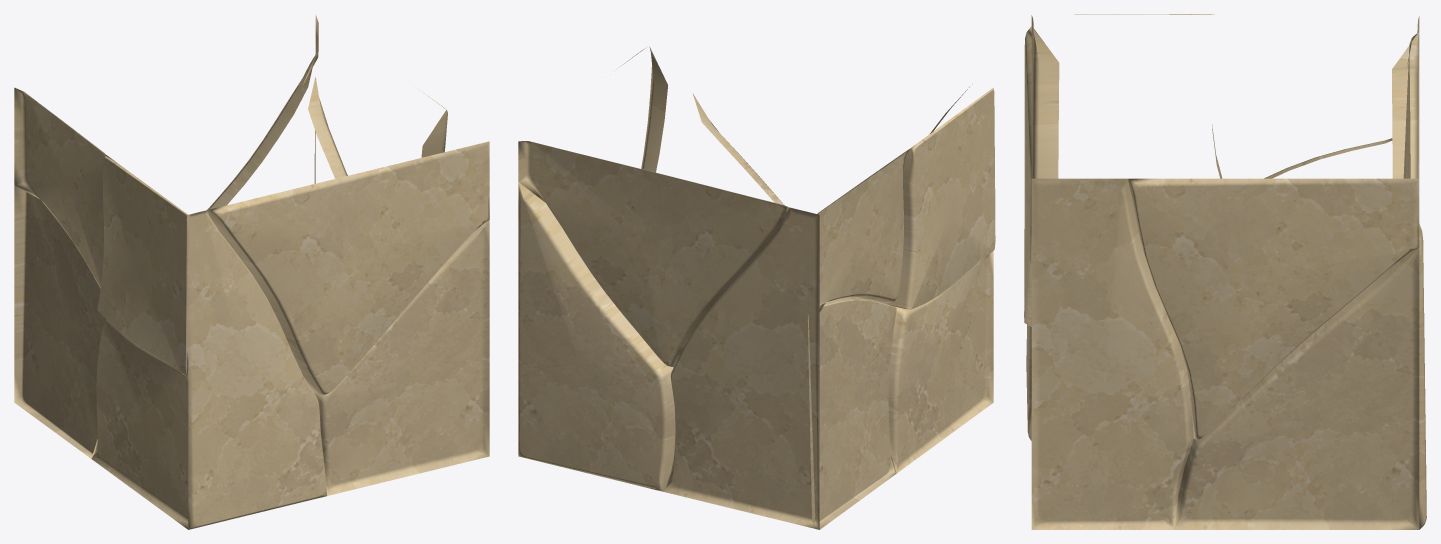
File: GroundRock05.glb
The picture shows the model from 3 angles, left to right: view 1: azimuth 30°, elevation 25°; view 2: azimuth 150°, elevation 25°; view 3: azimuth 270°, elevation 25°; orthographic projection. The views are drawn at different scales.
Visible parts, largest first — view 1: ground_rock_05; view 2: ground_rock_05; view 3: ground_rock_05.
Part boxes in pixels (box(x1,y1,x2,y2)): ground_rock_05: box(14, 15, 489, 529); ground_rock_05: box(518, 46, 995, 529); ground_rock_05: box(1024, 14, 1426, 529).
Size of the model in its own units: 1.04 by 1 by 1.04.
Materials: 14 (14 with a texture image).
